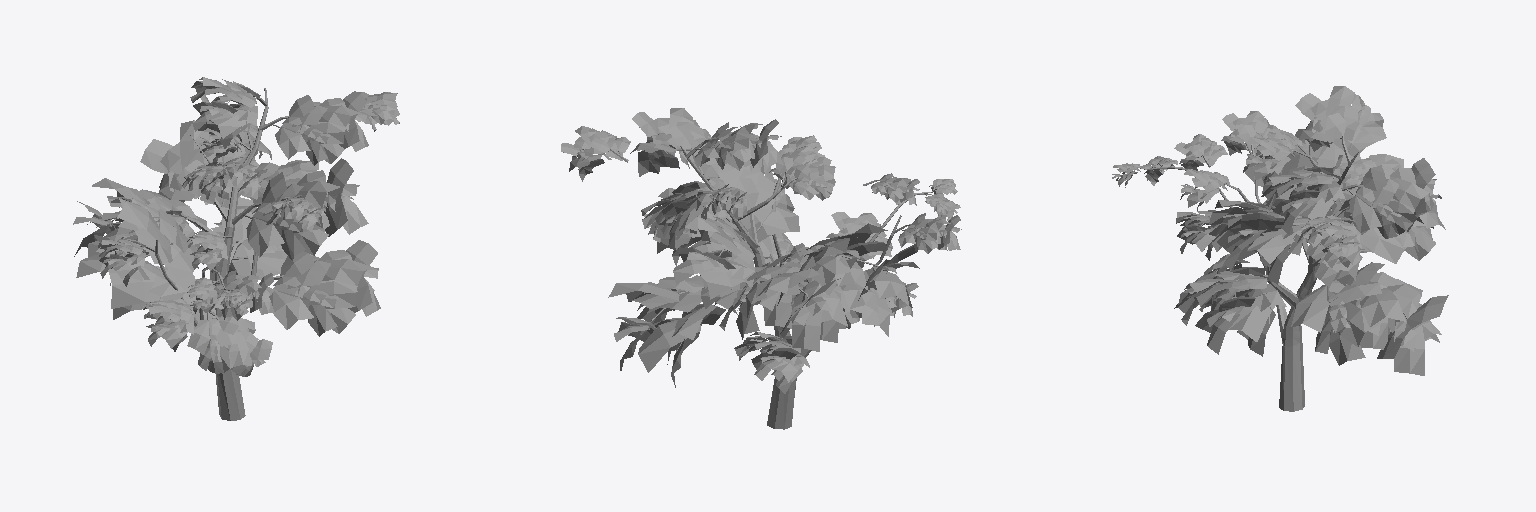
File: tree2.obj
3 views of the same model, side by side, from view 1: azimuth 30°, elevation 25°; view 2: azimuth 150°, elevation 25°; view 3: azimuth 270°, elevation 25° (orthographic).
Parts seen in each view (by area): view 1: tree_small_joined; view 2: tree_small_joined; view 3: tree_small_joined.
Boxes of the visible parts, x1=… form: tree_small_joined: x1=73, y1=77, x2=399, y2=420; tree_small_joined: x1=561, y1=108, x2=961, y2=429; tree_small_joined: x1=1112, y1=86, x2=1448, y2=411.
Bounding box in the file's own units: 4.98 × 4.4 × 4.2.